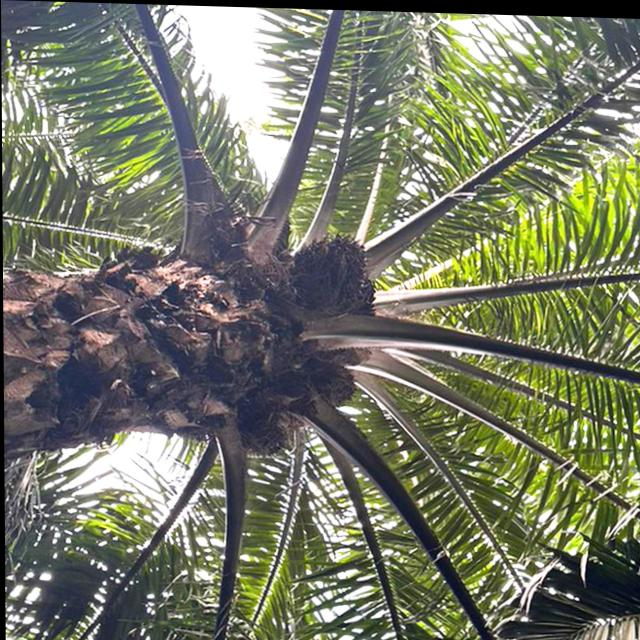almost: (291, 230, 376, 318)
